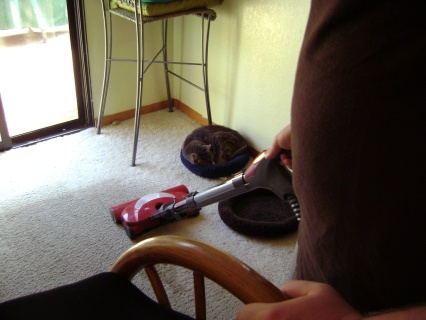Cat: (180, 121, 250, 168)
